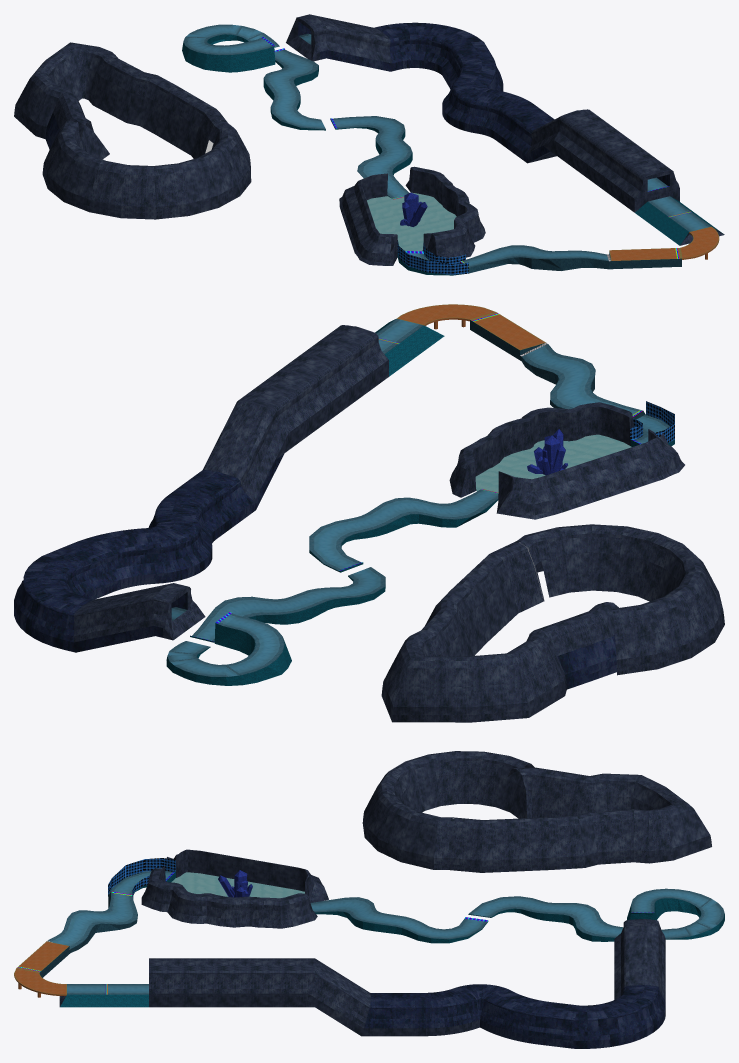
3 renders of one model, top to bottom at view 1: azimuth 30°, elevation 25°; view 2: azimuth 150°, elevation 25°; view 3: azimuth 270°, elevation 25°, orthographic. The views are drawn at different scales.
Parts seen in each view (by area): view 1: eclipsecove2_Main-Cavewall, eclipsecove2_Main-CaveUnderwater, eclipsecove2_Main-dirtroad, eclipsecove2_Main-Rockwall, eclipsecove2_Main-Sand, eclipsecove2_Main-Rock, eclipsecove2_Main-StickyRoad, eclipsecove2_Main-Wood, eclipsecove2_Main-Farbe_005, eclipsecove2_Main-Metal_Wall, eclipsecove2_Main-Crystal; view 2: eclipsecove2_Main-Cavewall, eclipsecove2_Main-CaveUnderwater, eclipsecove2_Main-dirtroad, eclipsecove2_Main-Rockwall, eclipsecove2_Main-StickyRoad, eclipsecove2_Main-Sand, eclipsecove2_Main-Wood, eclipsecove2_Main-Crystal, eclipsecove2_Main-Rock, eclipsecove2_Main-Farbe_005, eclipsecove2_Main-Metal_Wall; view 3: eclipsecove2_Main-Cavewall, eclipsecove2_Main-CaveUnderwater, eclipsecove2_Main-dirtroad, eclipsecove2_Main-Rockwall, eclipsecove2_Main-StickyRoad, eclipsecove2_Main-Wood, eclipsecove2_Main-Sand, eclipsecove2_Main-Farbe_005, eclipsecove2_Main-Metal_Wall, eclipsecove2_Main-Rock, eclipsecove2_Main-Crystal.
Boxes of the visible parts, x1,y1,x2,y2 form: eclipsecove2_Main-Cavewall: (14,14,724,265); eclipsecove2_Main-CaveUnderwater: (45,21,669,186); eclipsecove2_Main-dirtroad: (264,49,608,267); eclipsecove2_Main-Rockwall: (182,34,722,275); eclipsecove2_Main-Sand: (367,192,456,251); eclipsecove2_Main-Rock: (459,252,681,273); eclipsecove2_Main-StickyRoad: (183,24,275,55); eclipsecove2_Main-Wood: (610,227,719,260); eclipsecove2_Main-Farbe_005: (257,33,710,231); eclipsecove2_Main-Metal_Wall: (397,240,468,274); eclipsecove2_Main-Crystal: (400,192,427,226); eclipsecove2_Main-Cavewall: (73,325,724,722); eclipsecove2_Main-CaveUnderwater: (14,453,616,689); eclipsecove2_Main-dirtroad: (192,344,669,641); eclipsecove2_Main-Rockwall: (166,319,674,685); eclipsecove2_Main-StickyRoad: (167,615,284,676); eclipsecove2_Main-Sand: (475,434,631,492); eclipsecove2_Main-Wood: (398,304,544,349); eclipsecove2_Main-Crystal: (527,429,567,475); eclipsecove2_Main-Rock: (470,320,645,419); eclipsecove2_Main-Farbe_005: (171,318,423,649); eclipsecove2_Main-Metal_Wall: (630,401,674,443); eclipsecove2_Main-Cavewall: (59,751,711,1036); eclipsecove2_Main-CaveUnderwater: (364,984,665,1048); eclipsecove2_Main-dirtroad: (48,871,623,948); eclipsecove2_Main-Rockwall: (60,872,724,1007); eclipsecove2_Main-StickyRoad: (631,888,724,938); eclipsecove2_Main-Wood: (14,942,68,997); eclipsecove2_Main-Sand: (171,872,304,898); eclipsecove2_Main-Farbe_005: (67,911,668,994); eclipsecove2_Main-Metal_Wall: (108,858,175,898); eclipsecove2_Main-Rock: (39,892,137,977); eclipsecove2_Main-Crystal: (218,870,252,897).
Size of what is drawn, in the model's own units: 80333 by 11280 by 102430.
27 materials, 26 textured.
